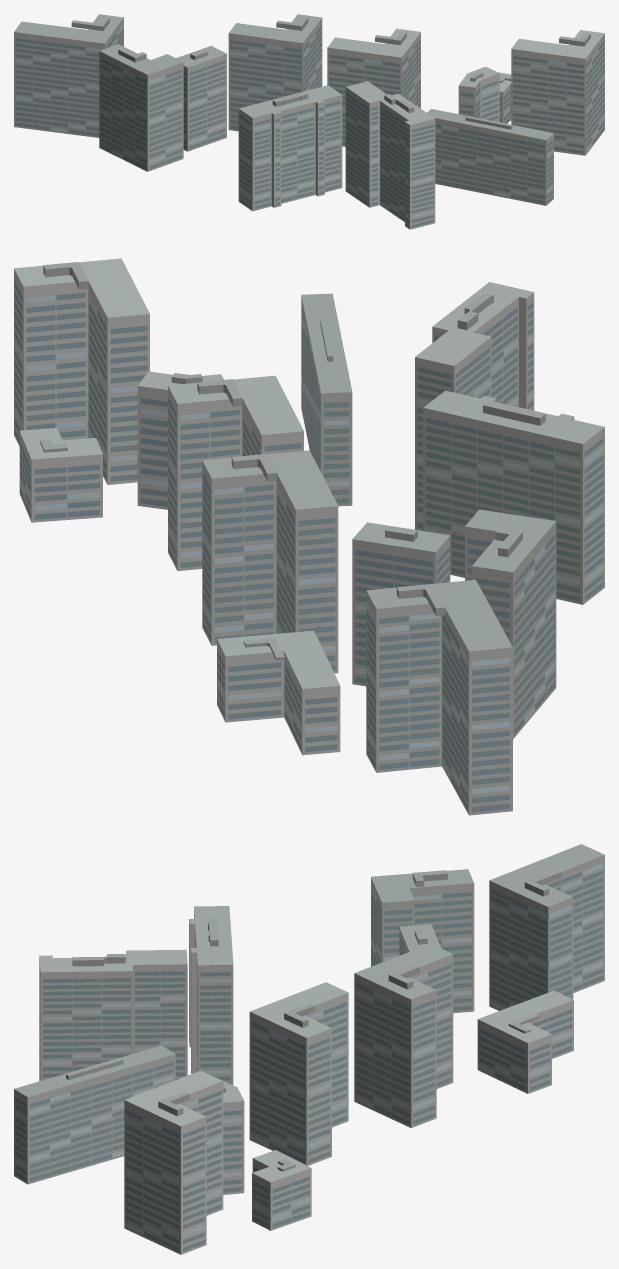
Rendered from apt-a10023162.glb.
3 renders of one model, top to bottom at view 1: azimuth 30°, elevation 25°; view 2: azimuth 150°, elevation 25°; view 3: azimuth 270°, elevation 25°, orthographic. The views are drawn at different scales.
Visible parts, largest first — view 1: apt-a10023162; view 2: apt-a10023162; view 3: apt-a10023162.
Part boxes in pixels (x1,y1,x2,y2): apt-a10023162: (14,14,604,229); apt-a10023162: (14,258,604,815); apt-a10023162: (14,844,604,1254).
Bounding box in the file's own units: 241 × 57 × 211.
